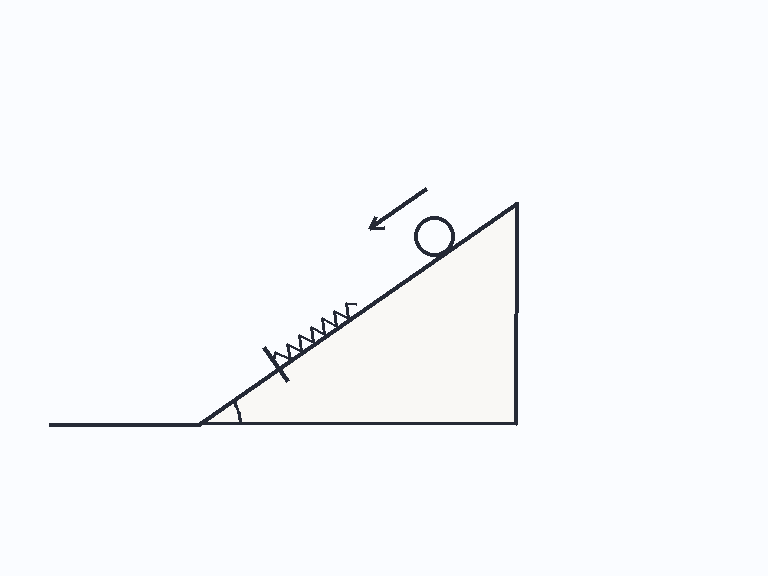ball: (412, 214, 456, 258)
ramp: (198, 201, 517, 426)
spring: (272, 300, 358, 363)
